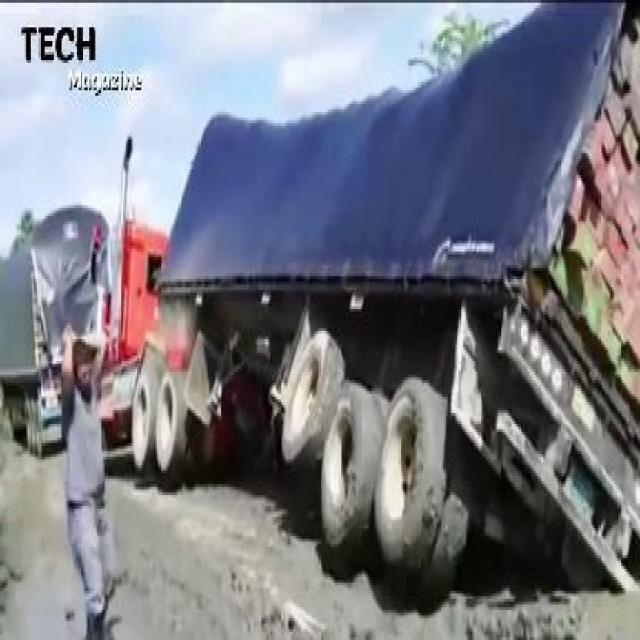accident: (84, 8, 639, 599)
